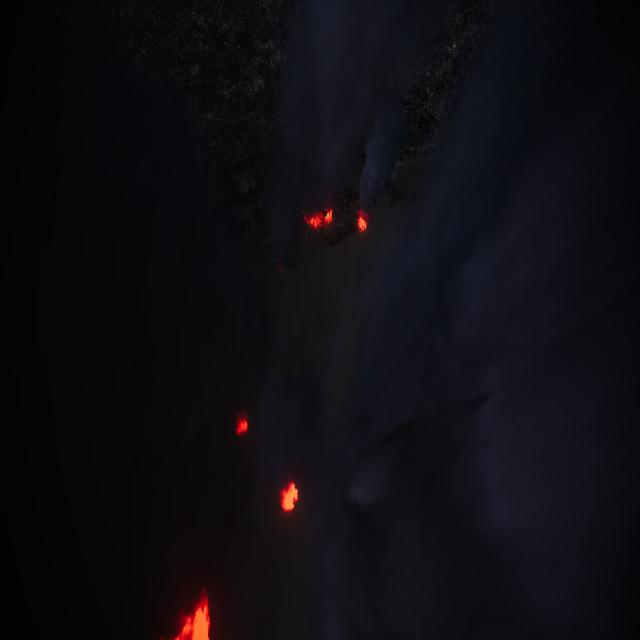Human: (310, 290, 328, 346)
